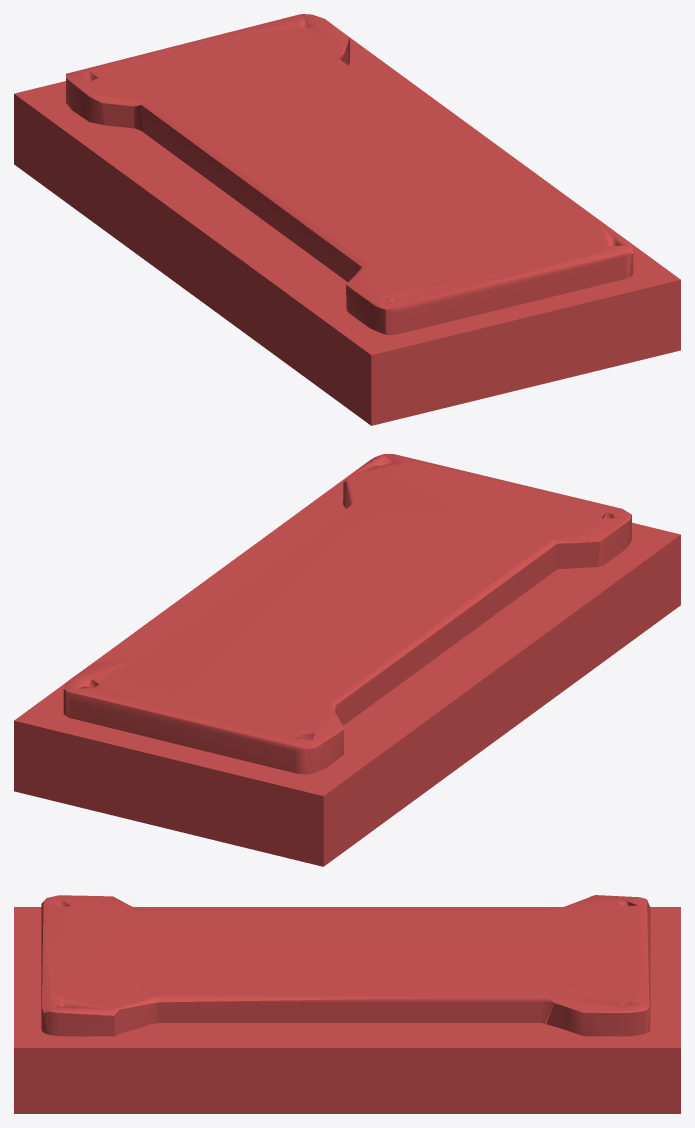
The model's file is Final_ComplexWall_2x1_04.FBX.
The picture shows the model from 3 angles, top to bottom: view 1: azimuth 30°, elevation 25°; view 2: azimuth 150°, elevation 25°; view 3: azimuth 270°, elevation 25°; orthographic projection. The views are drawn at different scales.
Parts seen in each view (by area): view 1: Final_ComplexWall_2x1_04; view 2: Final_ComplexWall_2x1_04; view 3: Final_ComplexWall_2x1_04.
Part boxes in pixels (x1,y1,x2,y2): Final_ComplexWall_2x1_04: (14, 14, 680, 425); Final_ComplexWall_2x1_04: (14, 454, 680, 866); Final_ComplexWall_2x1_04: (14, 895, 680, 1113).
Size of the model in its own units: 100 by 200 by 30.24.
